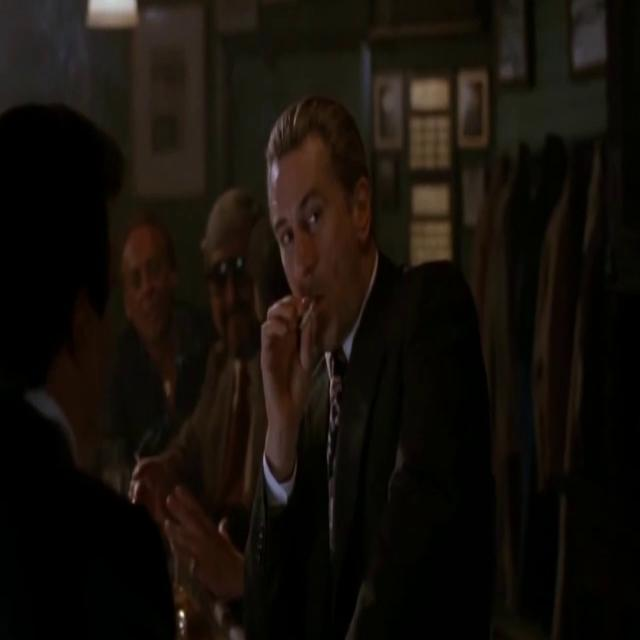Smooking: (296, 289, 320, 329)
